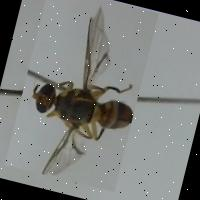Oriental-fruit-fly: (4, 0, 158, 192)
